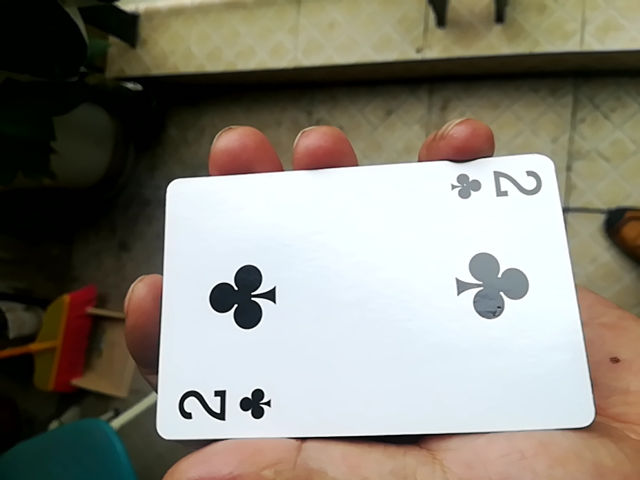mh 2: (147, 151, 584, 452)
